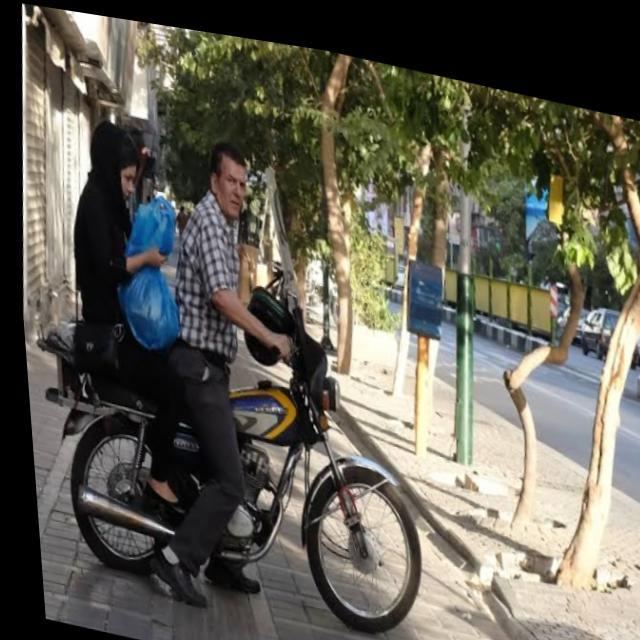Nonhelmet: (199, 135, 259, 227)
